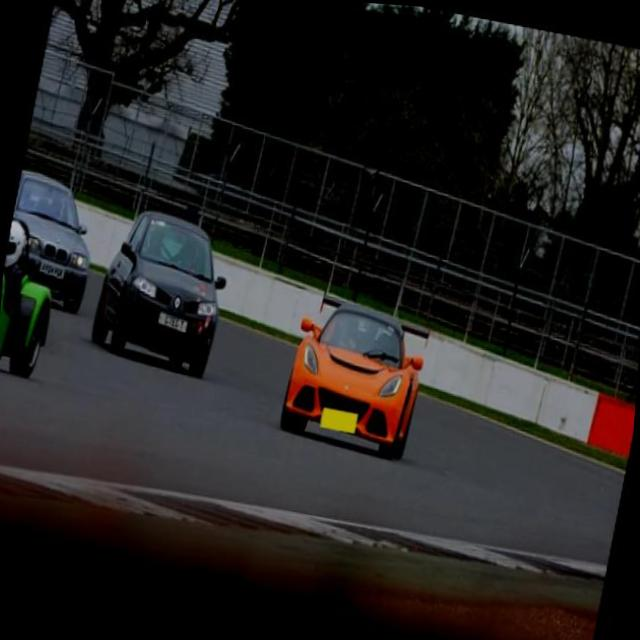LicensePlate: (319, 406, 357, 432), (156, 312, 185, 331), (38, 259, 62, 276)
